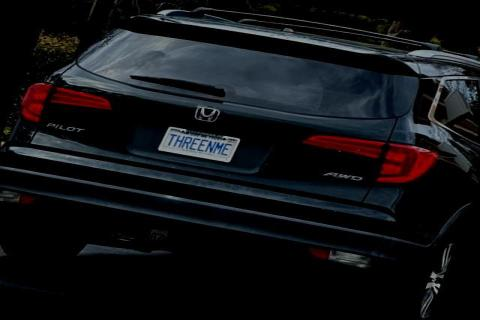LicensePlate: (154, 125, 240, 163)
